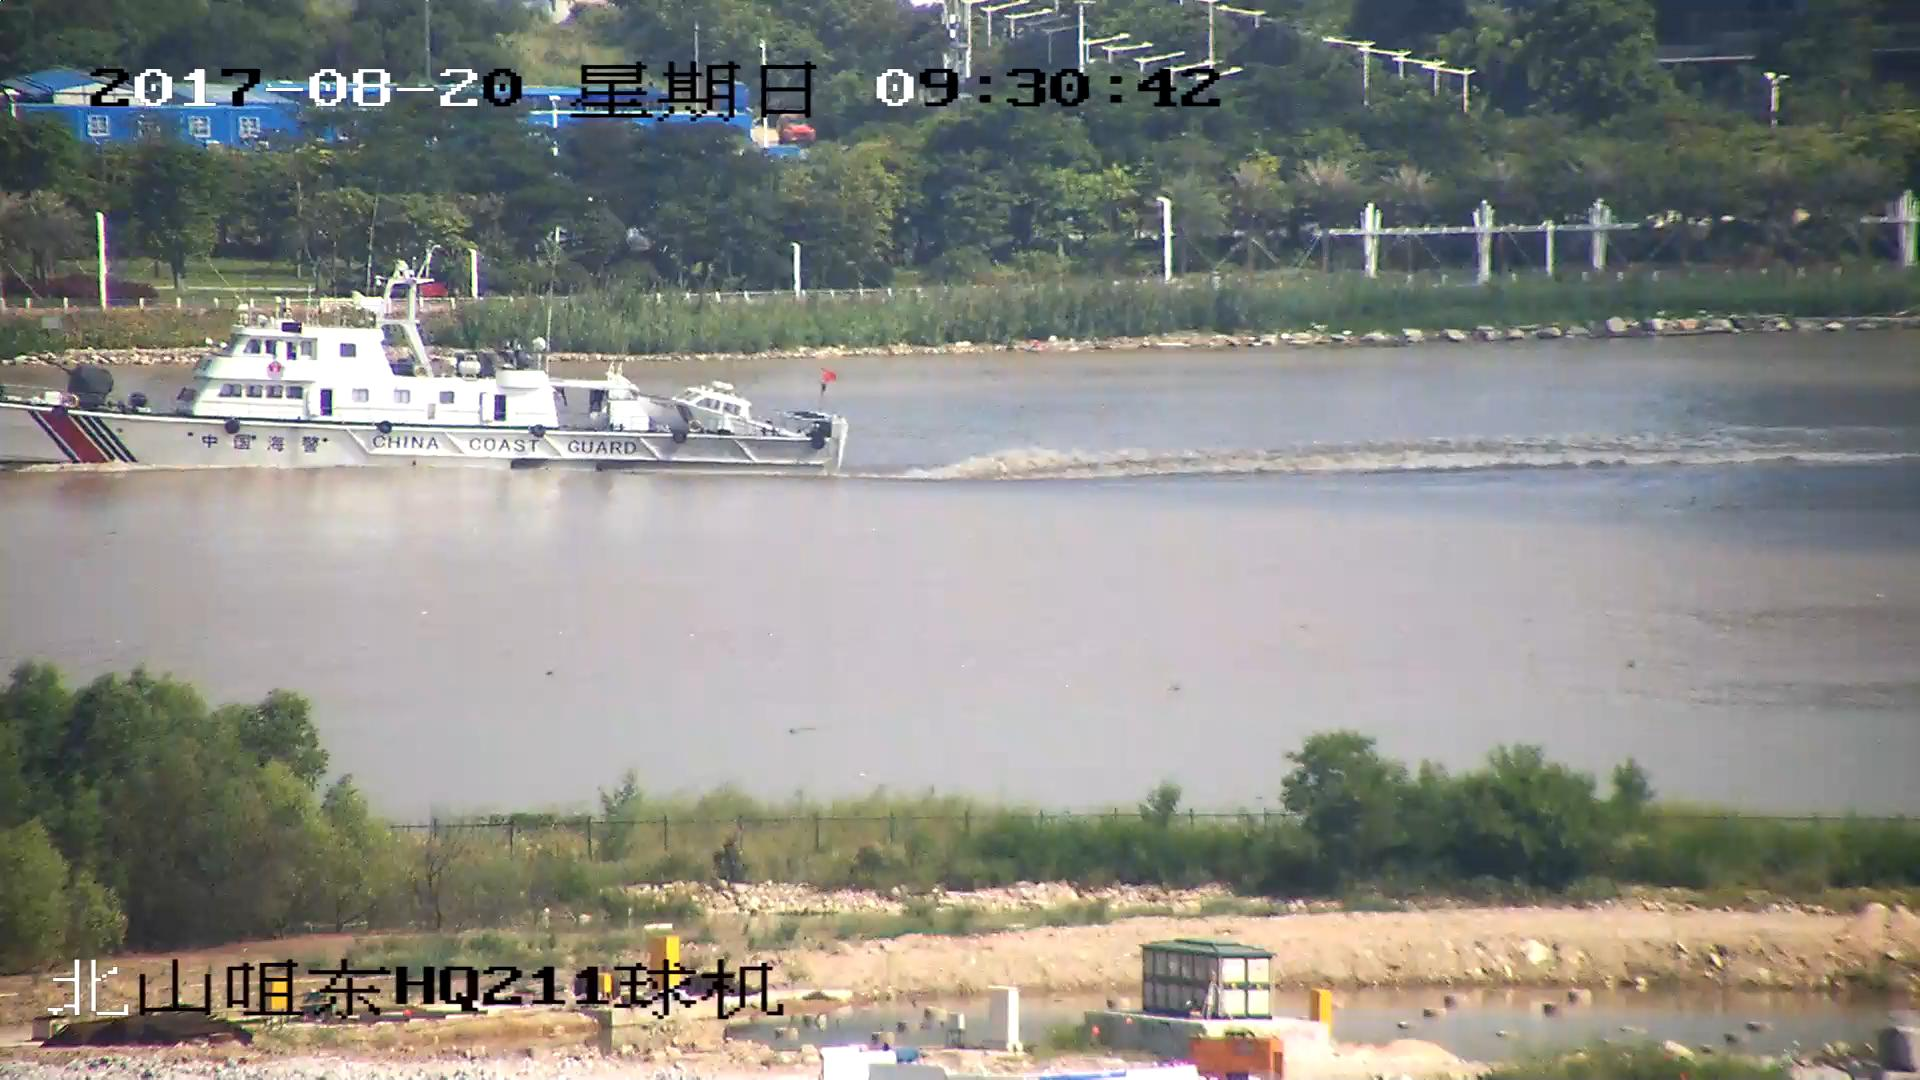passenger ship: (1, 264, 844, 478)
